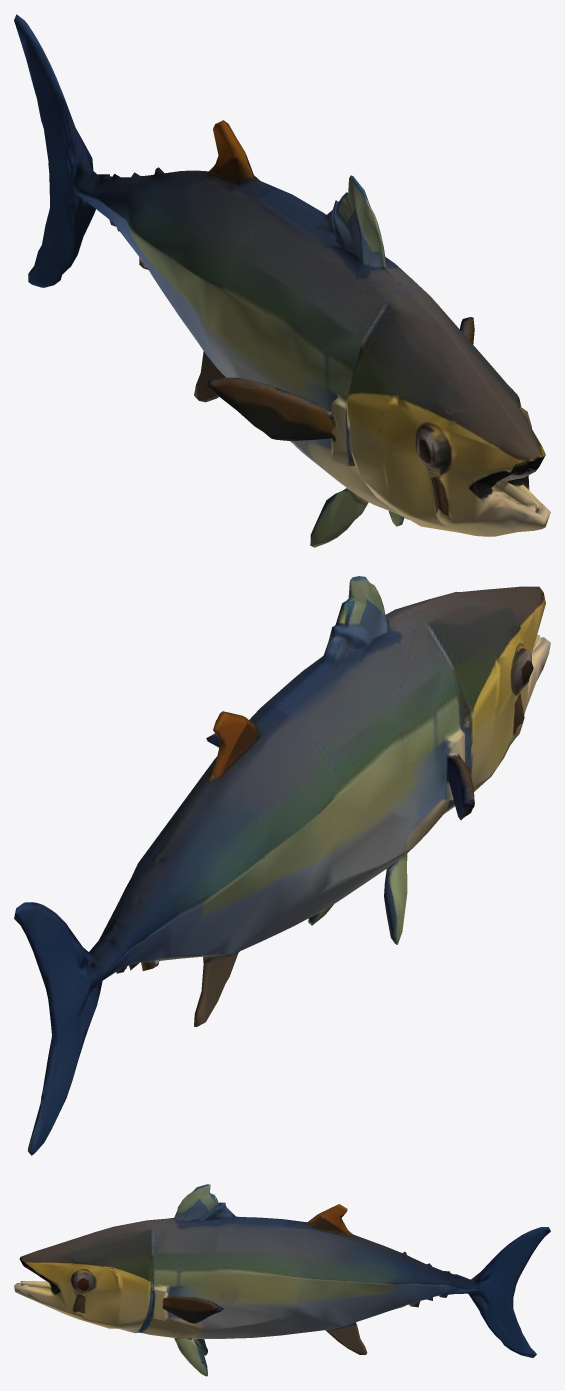
File: fishTuna.glb
The picture shows the model from 3 angles, top to bottom: view 1: azimuth 30°, elevation 25°; view 2: azimuth 150°, elevation 25°; view 3: azimuth 270°, elevation 25°; orthographic projection. The views are drawn at different scales.
Parts seen in each view (by area): view 1: tripo_node_a4434bfe-327d-4ec8-bb1a-7ea8c209e415; view 2: tripo_node_a4434bfe-327d-4ec8-bb1a-7ea8c209e415; view 3: tripo_node_a4434bfe-327d-4ec8-bb1a-7ea8c209e415.
Boxes of the visible parts, left/top/right/bottom form: tripo_node_a4434bfe-327d-4ec8-bb1a-7ea8c209e415: left=14, top=14, right=550, bottom=547; tripo_node_a4434bfe-327d-4ec8-bb1a-7ea8c209e415: left=14, top=576, right=550, bottom=1155; tripo_node_a4434bfe-327d-4ec8-bb1a-7ea8c209e415: left=14, top=1184, right=550, bottom=1376.
Bounding box in the file's own units: 0.7789 × 1 × 2.67.
1 material, 1 textured.
